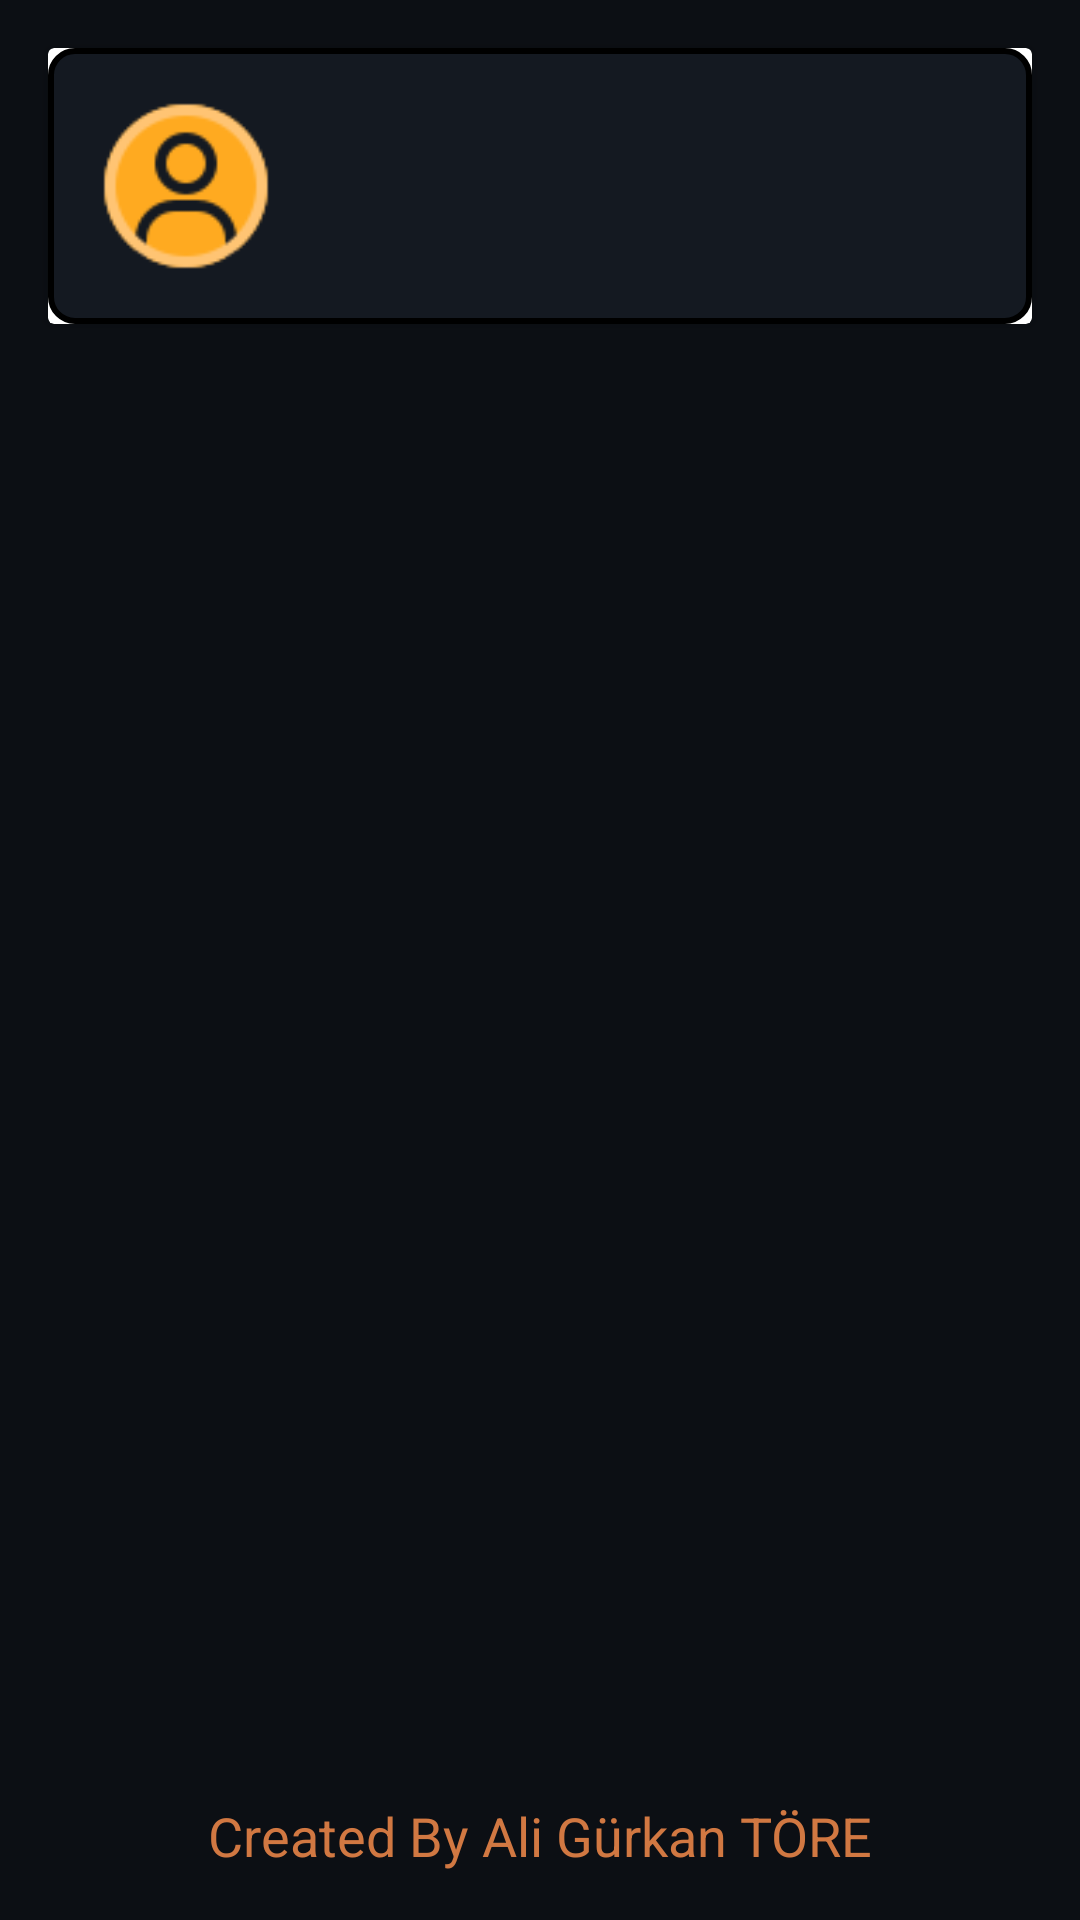

Where icons sit on this 1080px×1920px app screen, as detection(x1, y1, x2, y2):
user profile: detection(103, 103, 269, 269)
